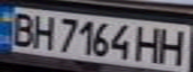1: (75, 18, 96, 55)
4: (109, 21, 136, 61)
6: (90, 20, 112, 57)
7: (54, 16, 78, 53)
B: (3, 9, 39, 47)
H: (133, 24, 166, 63), (157, 26, 190, 65), (27, 12, 57, 51)
